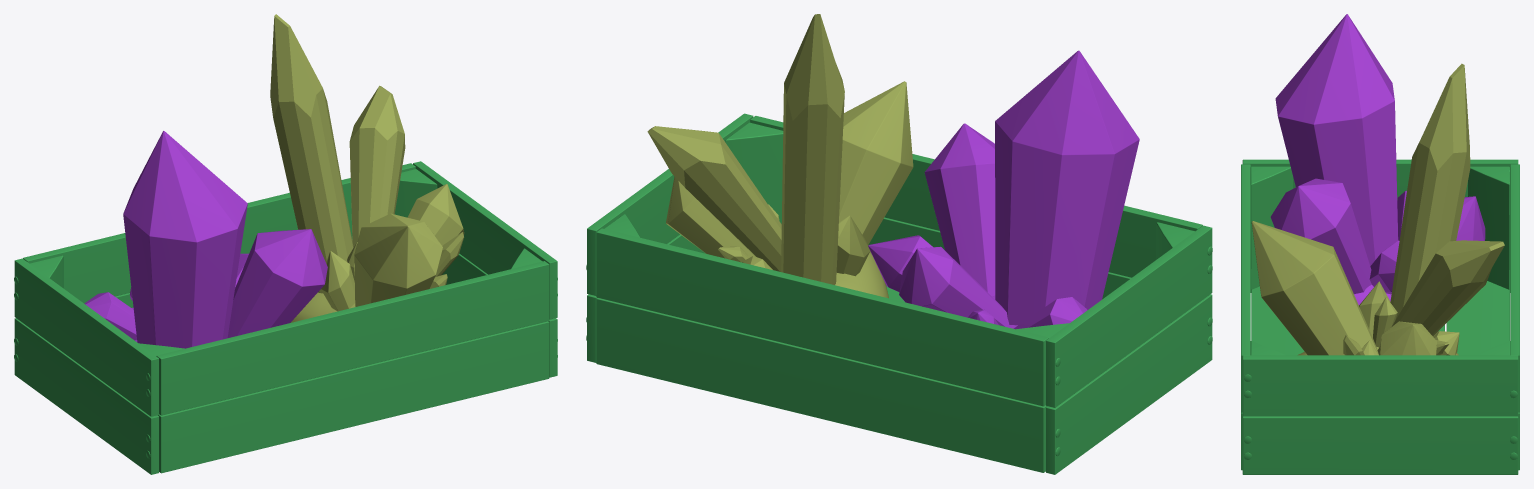
File: SM_Crystal_Crate_01.fbx
The picture shows the model from 3 angles, left to right: view 1: azimuth 30°, elevation 25°; view 2: azimuth 150°, elevation 25°; view 3: azimuth 270°, elevation 25°; orthographic projection. The views are drawn at different scales.
Parts seen in each view (by area): view 1: polySurface176; view 2: polySurface176; view 3: polySurface176.
Boxes of the visible parts, x1,y1,x2,y2 form: polySurface176: [14, 14, 557, 474]; polySurface176: [586, 14, 1212, 474]; polySurface176: [1241, 14, 1519, 474].
Size of the model in its own units: 7.24 by 5.5 by 4.25.
